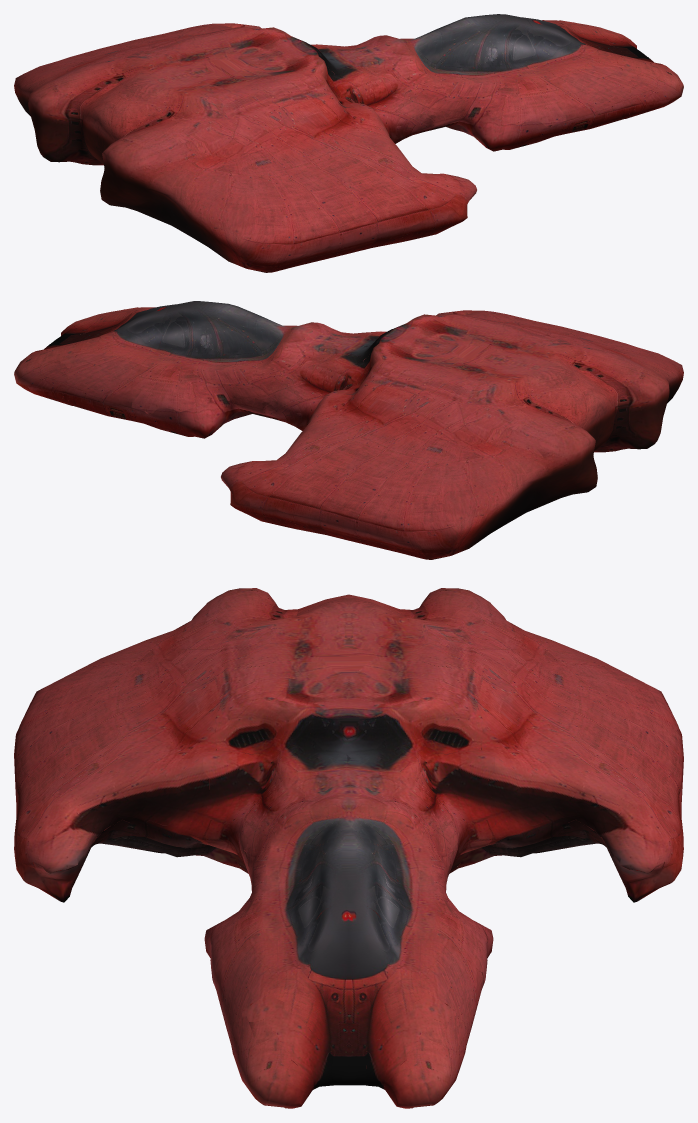
The model's file is redSpaceFighter.glb.
3 views of the same model, one above another, from view 1: azimuth 30°, elevation 25°; view 2: azimuth 150°, elevation 25°; view 3: azimuth 270°, elevation 25° (orthographic). The views are drawn at different scales.
Visible parts, largest first — view 1: Mesh_0; view 2: Mesh_0; view 3: Mesh_0.
Boxes of the visible parts, bbox=[...] form: Mesh_0: bbox=[14, 14, 683, 272]; Mesh_0: bbox=[14, 301, 683, 559]; Mesh_0: bbox=[14, 588, 683, 1108].
Size of the model in its own units: 1.2 by 0.2599 by 0.8513.
Materials: 1 (1 with a texture image).
